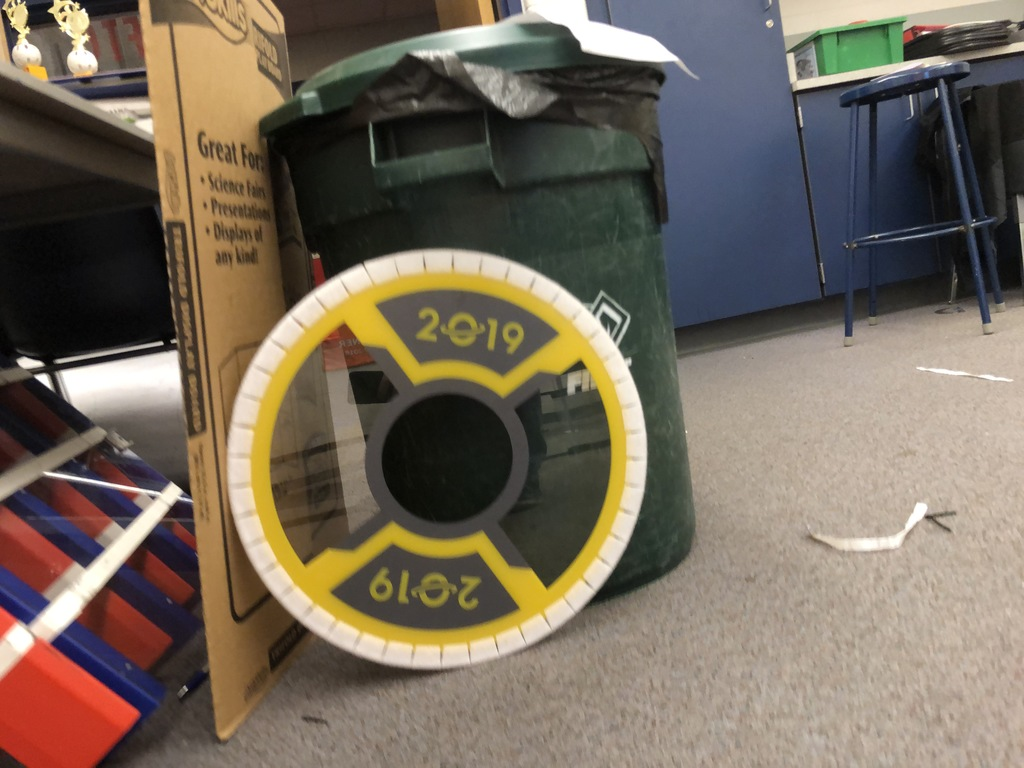hatch_panel: (222, 240, 660, 683)
